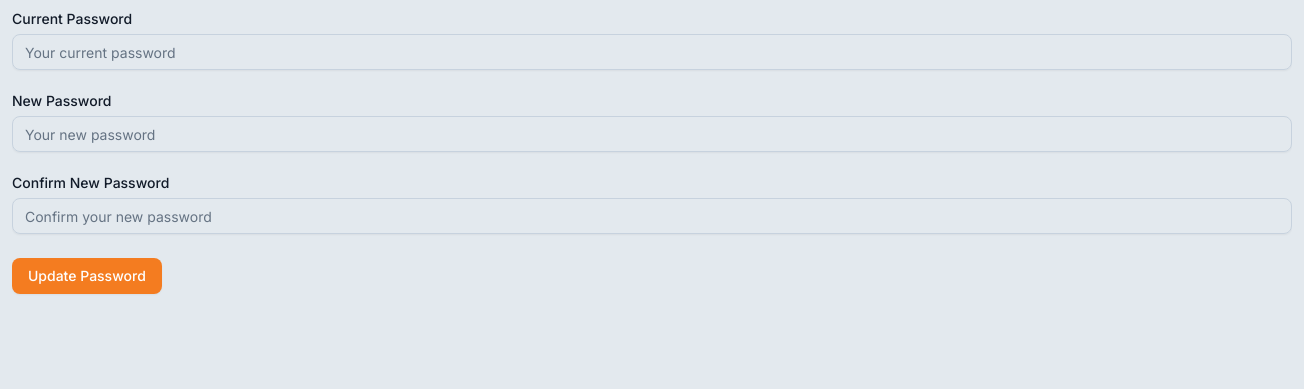
Test case: PasswordUpdateForm › shows error message when update fails
Type "CurrentPass123" into the password field labelled "Current Password". click: (652, 52)
box: [12, 34, 1292, 70]
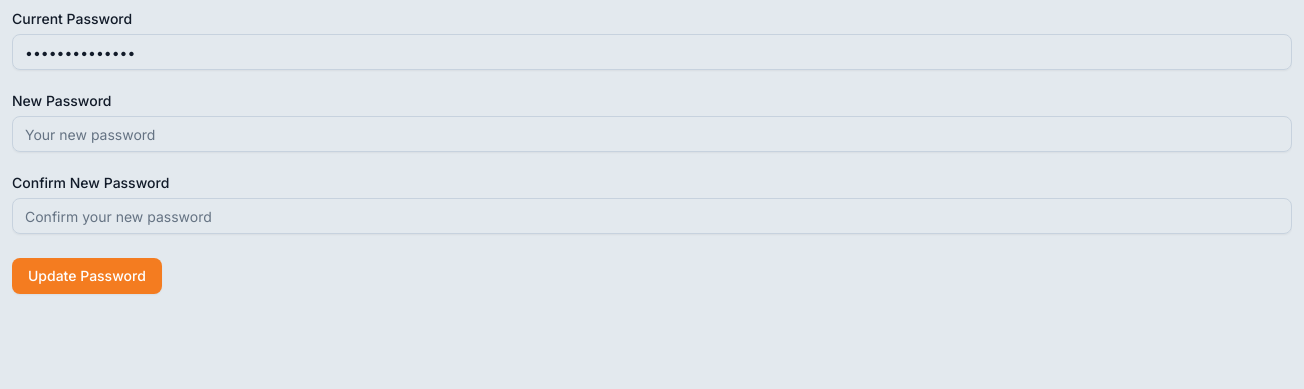
Type "NewPassword123" into the password field with placeholder "Your new password". click: (652, 134)
box: [12, 116, 1292, 152]
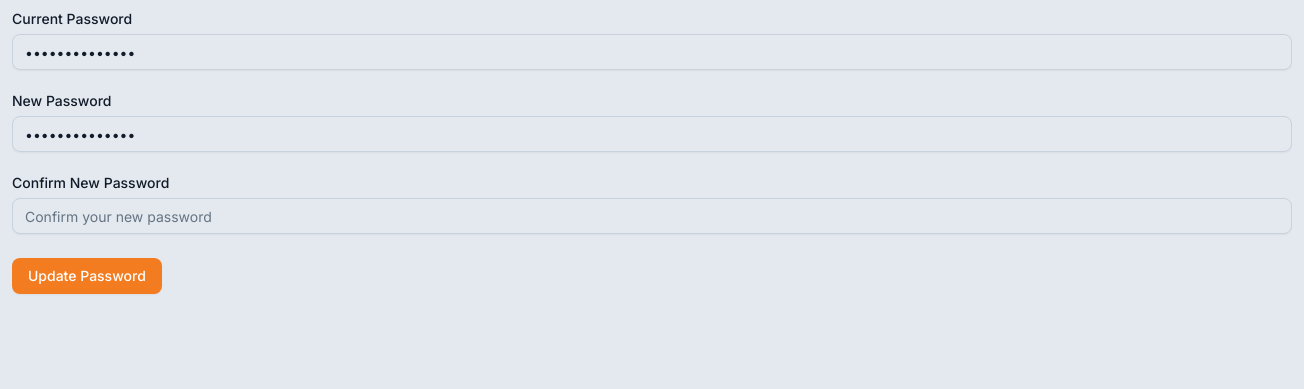
Type "NewPassword123" into the password field with placeholder "Confirm your new password". click: (652, 216)
box: [12, 198, 1292, 234]
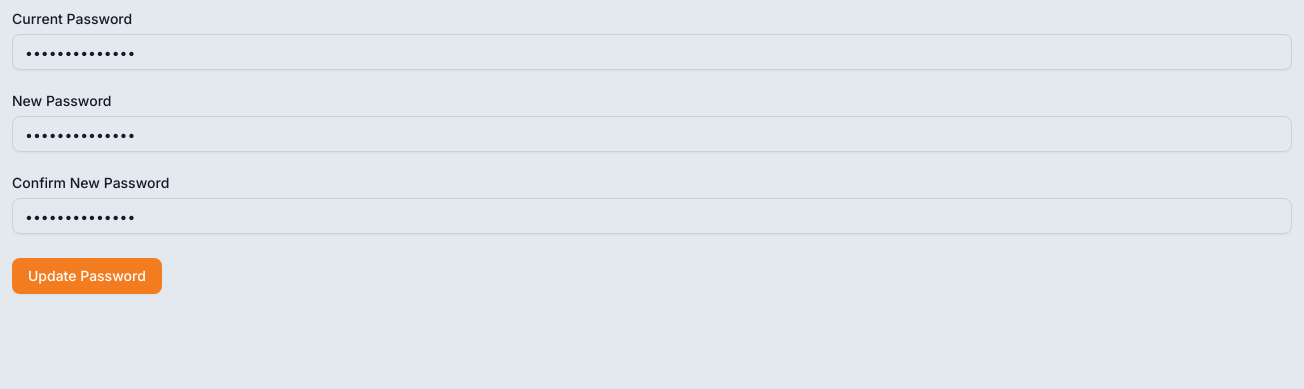
Click the button "Update Password". click: (87, 276)
box: [12, 258, 162, 294]
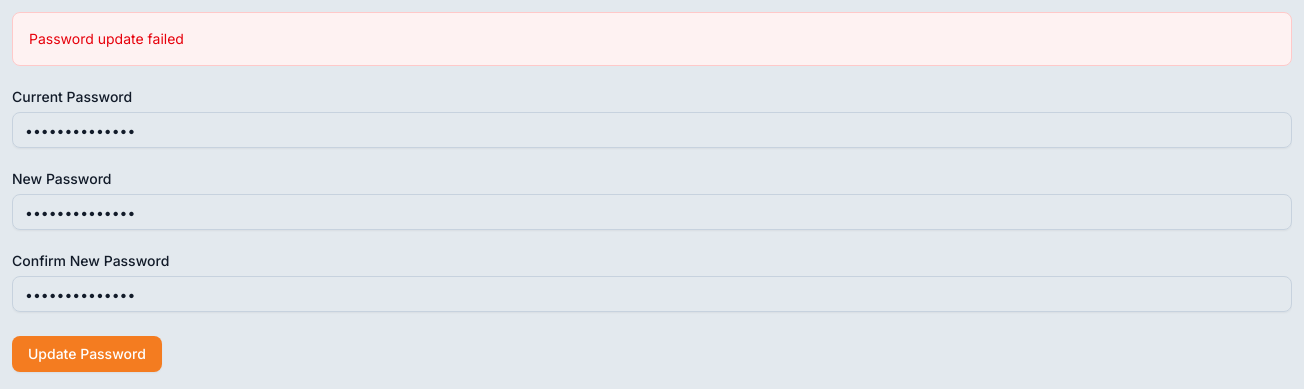
Result: the text "Password update failed" is shown at [12, 12, 1292, 66]
